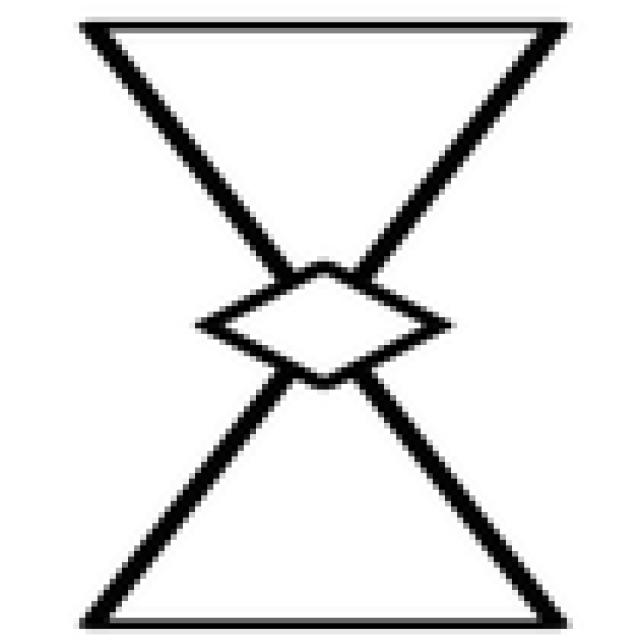Plug Valve: (85, 24, 563, 619)
